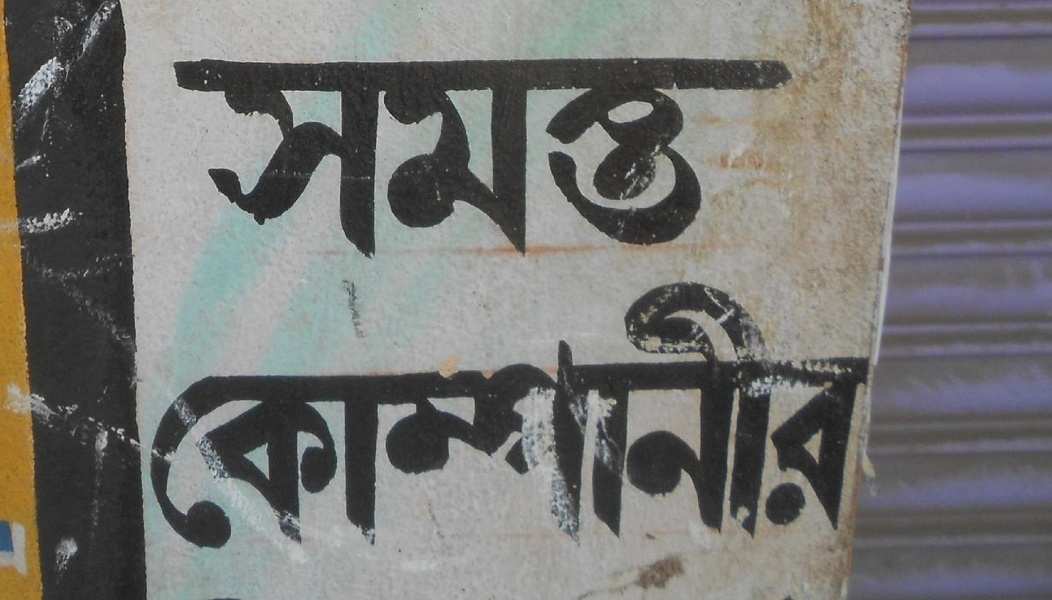text: (129, 276, 144, 554), (145, 276, 160, 554), (161, 276, 176, 554), (177, 276, 192, 554), (193, 276, 208, 554), (209, 276, 224, 554), (225, 276, 240, 554), (241, 276, 256, 554), (257, 276, 272, 554), (273, 276, 288, 554), (289, 276, 304, 554), (305, 276, 320, 554), (321, 276, 336, 554), (337, 276, 352, 554), (353, 276, 368, 554), (369, 276, 384, 554), (385, 276, 400, 554), (401, 276, 416, 554), (417, 276, 432, 554), (433, 276, 448, 554), (449, 276, 464, 554), (465, 276, 480, 554), (481, 276, 496, 554), (497, 276, 512, 554), (513, 276, 528, 554), (529, 276, 544, 554), (545, 276, 560, 554), (561, 276, 576, 554), (577, 276, 592, 554), (593, 276, 608, 554), (609, 276, 624, 554), (625, 276, 640, 554), (641, 276, 656, 554), (657, 276, 672, 554), (673, 276, 688, 554), (689, 276, 704, 554), (705, 276, 720, 554), (721, 276, 736, 554), (737, 276, 752, 554), (753, 276, 768, 554), (769, 276, 784, 554), (785, 276, 800, 554), (801, 276, 816, 554), (817, 276, 832, 554), (833, 276, 848, 554), (849, 276, 864, 554), (865, 276, 880, 554), (177, 56, 192, 256), (193, 56, 208, 256), (209, 56, 224, 256), (225, 56, 240, 256), (241, 56, 256, 256), (257, 56, 272, 256), (273, 56, 288, 256), (289, 56, 304, 256), (305, 56, 320, 256), (321, 56, 336, 256), (337, 56, 352, 256), (353, 56, 368, 256), (369, 56, 384, 256), (385, 56, 400, 256), (401, 56, 416, 256), (417, 56, 432, 256), (433, 56, 448, 256), (449, 56, 464, 256), (465, 56, 480, 256), (481, 56, 496, 256), (497, 56, 512, 256), (513, 56, 528, 256), (529, 56, 544, 256), (545, 56, 560, 256), (561, 56, 576, 256), (577, 56, 592, 256), (593, 56, 608, 256), (609, 56, 624, 256), (625, 56, 640, 256), (641, 56, 656, 256), (657, 56, 672, 256), (673, 56, 688, 256), (689, 56, 704, 256), (705, 56, 720, 256), (721, 56, 736, 256), (737, 56, 752, 256), (753, 56, 768, 256), (769, 56, 784, 256), (118, 276, 128, 554), (785, 56, 794, 256), (168, 56, 176, 256), (33, 483, 49, 583), (1, 483, 16, 583), (17, 483, 32, 583), (881, 276, 884, 554)
